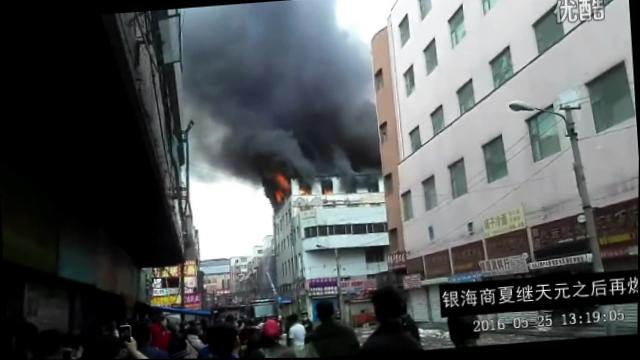fire: (275, 173, 288, 188), (274, 190, 282, 202), (299, 189, 310, 196), (324, 188, 332, 193)
